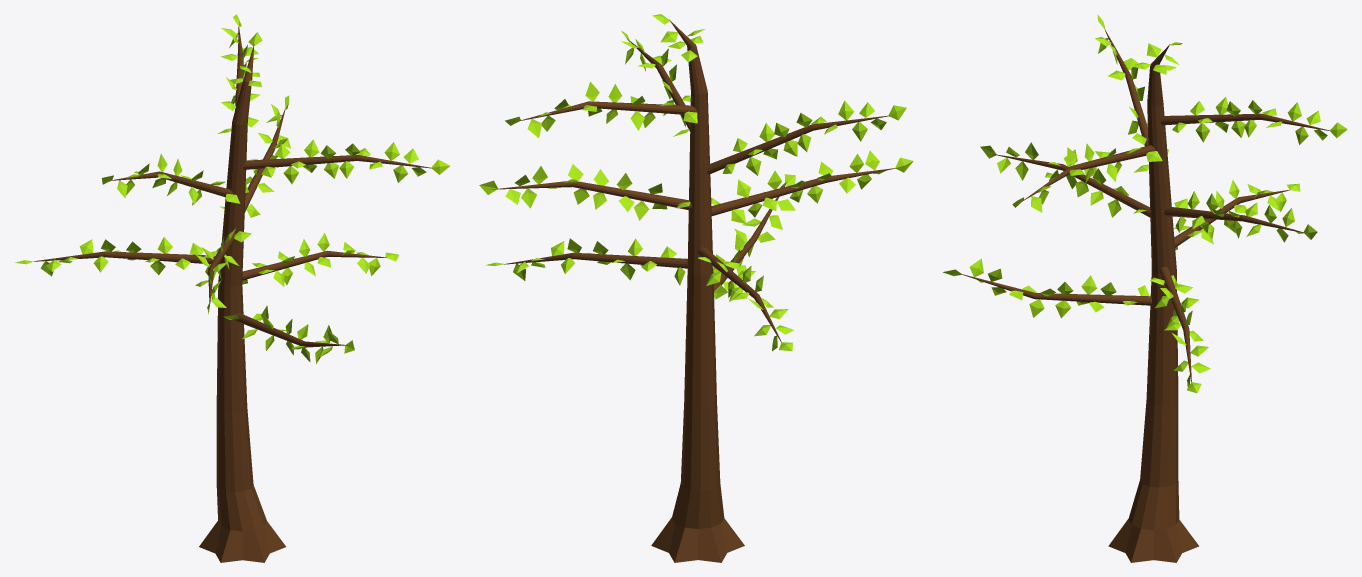
Rendered from SM_Static_Tree.fbx.
3 renders of one model, left to right at view 1: azimuth 30°, elevation 25°; view 2: azimuth 150°, elevation 25°; view 3: azimuth 270°, elevation 25°, orthographic. The views are drawn at different scales.
Visible parts, largest first — view 1: Static_Tree; view 2: Static_Tree; view 3: Static_Tree.
Part boxes in pixels (x1,y1,x2,y2): Static_Tree: (14,14,450,562); Static_Tree: (479,14,913,562); Static_Tree: (943,14,1347,562).
Bounding box in the file's own units: 439 × 604 × 429.
